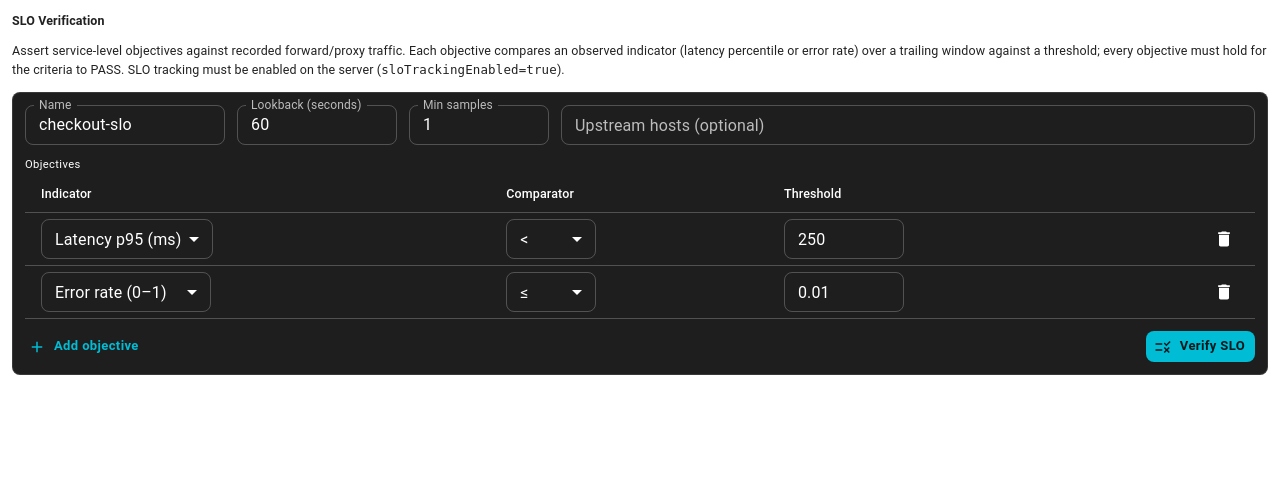
Test: SloPanel › surfaces a humanised error when the server rejects the criteria (400)
Click the button "Verify SLO" at (1200,347), box [1146, 331, 1255, 362]
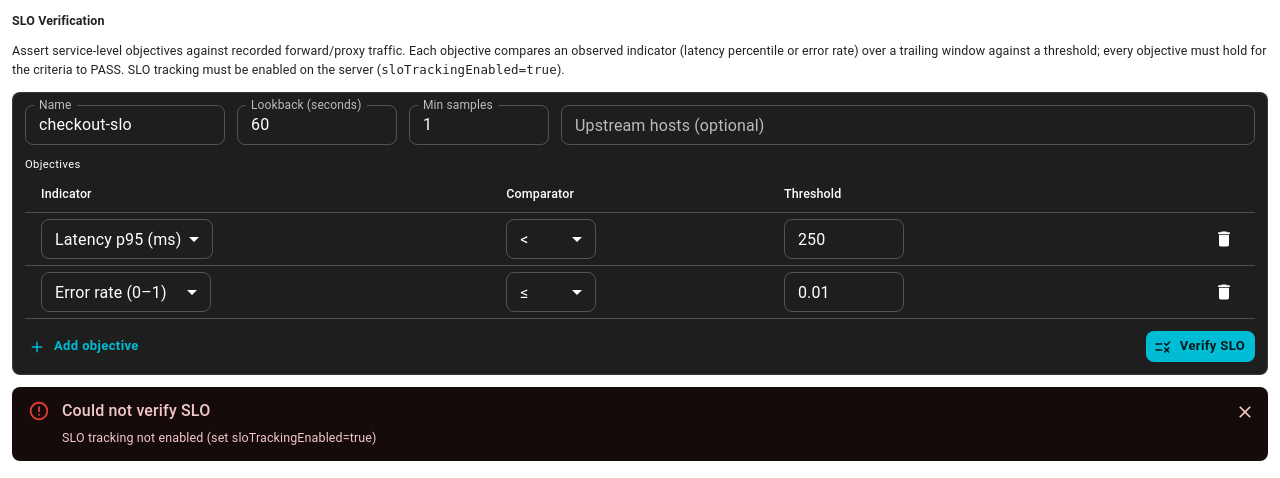
Result: the text "Could not verify SLO" is shown at [62, 401, 210, 420]
Result: the text "SLO tracking not enabled" is shown at [62, 430, 376, 444]
